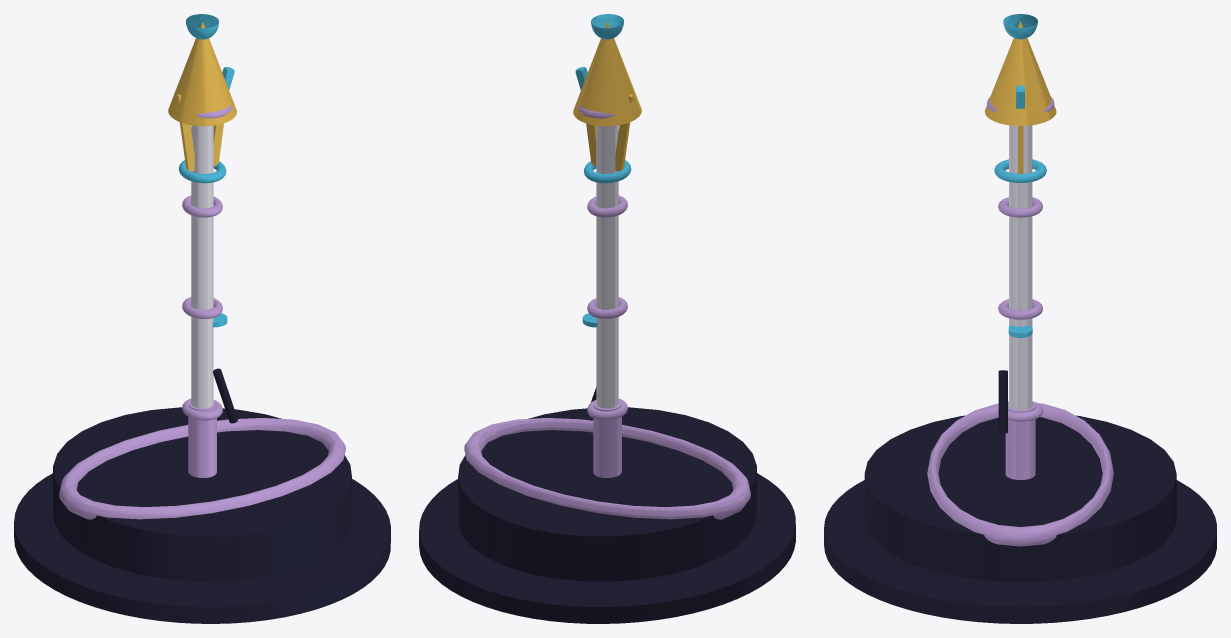
Rendered from 0458_机械图鉴_行星齿轮.glb.
3 renders of one model, left to right at view 1: azimuth 30°, elevation 25°; view 2: azimuth 150°, elevation 25°; view 3: azimuth 270°, elevation 25°, orthographic.
Visible parts, largest first — view 1: card_0458; view 2: card_0458; view 3: card_0458.
Part boxes in pixels (x1,y1,x2,y2): card_0458: (14, 14, 390, 623); card_0458: (419, 14, 795, 623); card_0458: (824, 14, 1216, 623).
Bounding box in the file's own units: 0.6467 × 1 × 0.6796.
